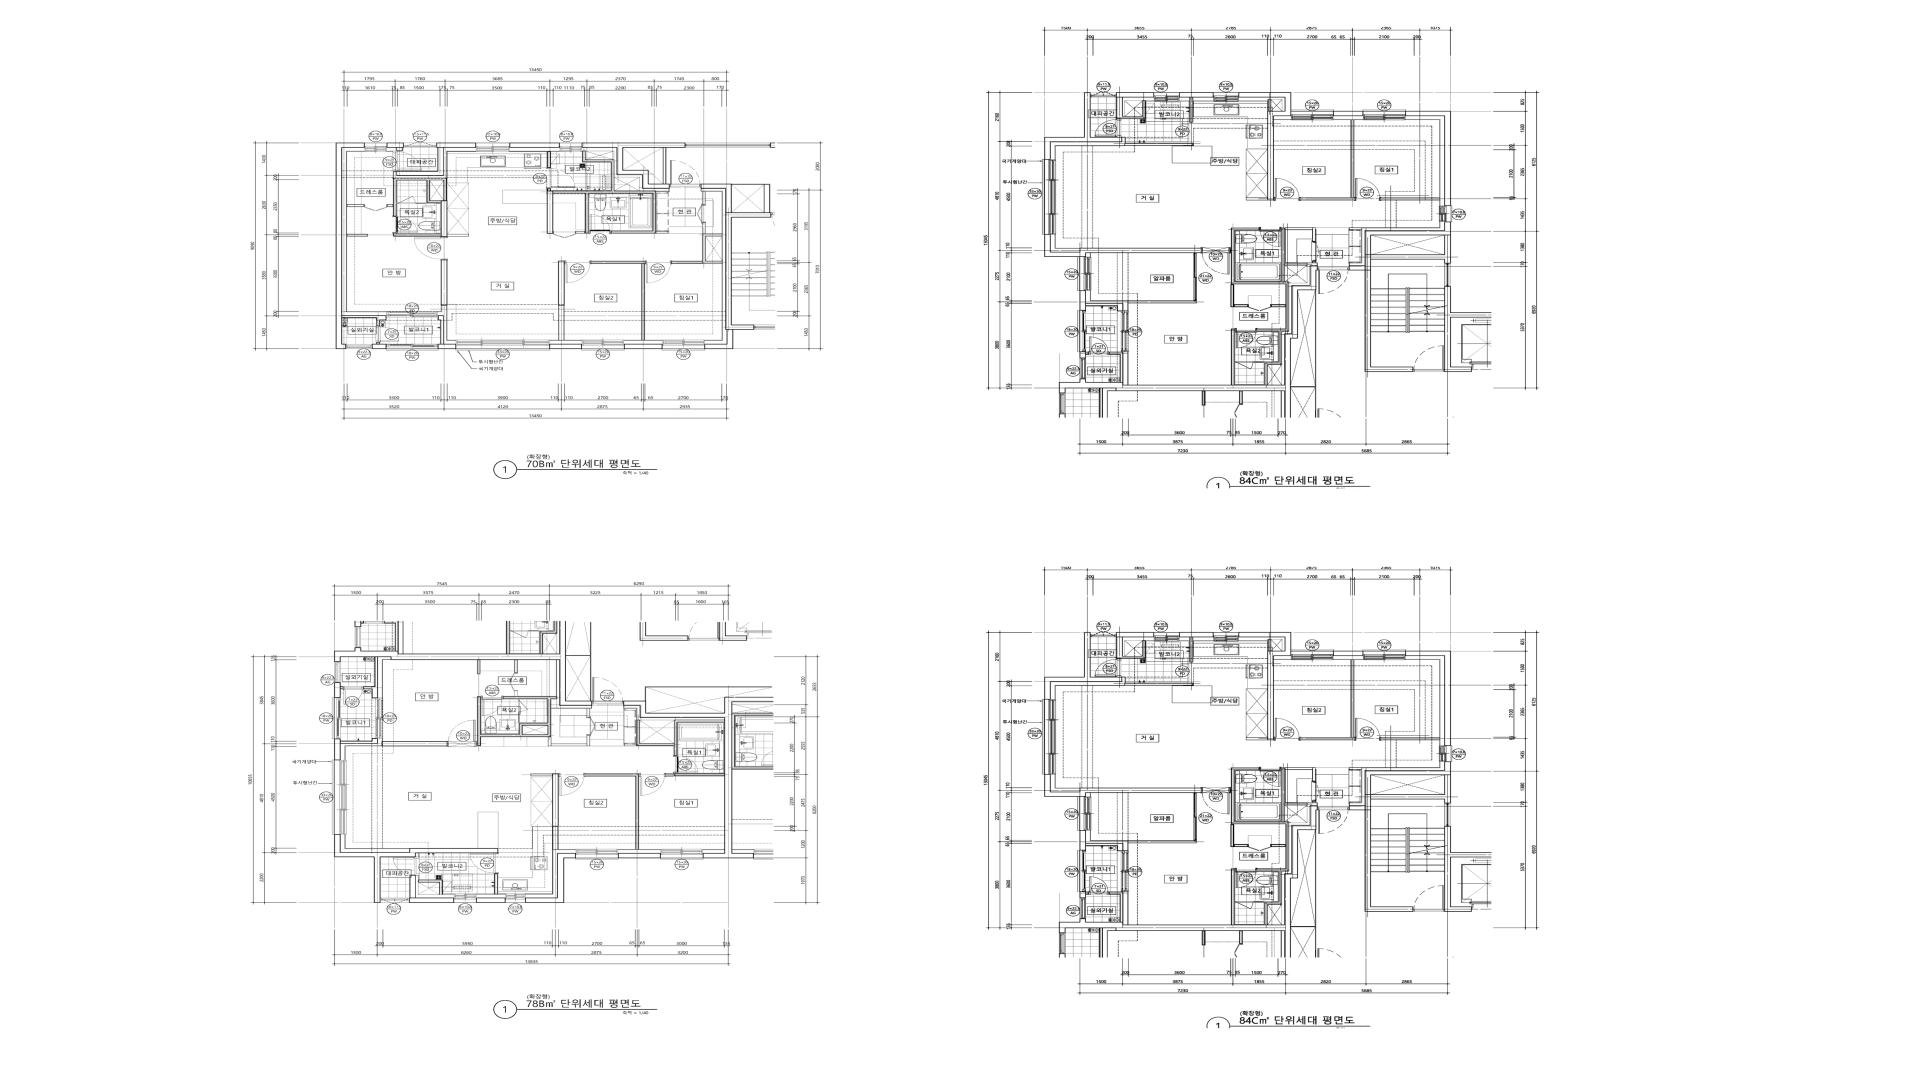door: (1317, 806, 1349, 833), (1317, 266, 1349, 294), (1201, 787, 1232, 815), (1414, 345, 1444, 372), (447, 720, 477, 746), (1414, 886, 1444, 913), (1201, 248, 1232, 274), (592, 678, 624, 703), (669, 161, 700, 186), (469, 853, 498, 874), (1354, 717, 1381, 740), (1274, 717, 1300, 740), (1354, 178, 1381, 200), (1274, 178, 1300, 200), (645, 261, 671, 284), (564, 261, 591, 284), (547, 167, 575, 189), (558, 774, 584, 795), (638, 774, 665, 795), (393, 152, 421, 171), (393, 857, 419, 876), (1095, 119, 1121, 137), (1095, 659, 1121, 676), (1259, 767, 1282, 787), (1234, 328, 1257, 348), (480, 696, 502, 716), (674, 756, 698, 774), (1234, 869, 1257, 887), (1259, 228, 1282, 247), (588, 215, 611, 233), (393, 216, 417, 233), (1088, 877, 1109, 895), (1088, 336, 1109, 355), (343, 687, 363, 704), (377, 326, 398, 342), (1193, 793, 1197, 840), (1193, 253, 1197, 301), (553, 231, 576, 239), (1312, 781, 1320, 803), (509, 673, 518, 691), (1312, 241, 1320, 262), (1091, 91, 1116, 98), (1249, 844, 1271, 851), (1249, 305, 1271, 311), (364, 204, 386, 211), (1234, 902, 1253, 910), (587, 717, 595, 736), (1234, 361, 1253, 369), (698, 204, 705, 223), (1091, 632, 1116, 637), (518, 699, 527, 712), (397, 196, 415, 203)
wall: (1059, 265, 1317, 418), (1059, 806, 1317, 957), (334, 621, 592, 705), (624, 698, 732, 858), (1349, 222, 1451, 372), (1349, 762, 1451, 913), (1232, 228, 1317, 385), (1232, 767, 1317, 924), (700, 183, 771, 349), (334, 835, 498, 903), (335, 142, 386, 349), (547, 150, 657, 233), (342, 148, 386, 315), (1238, 92, 1291, 200), (1238, 632, 1291, 740), (1044, 632, 1125, 699), (1044, 92, 1125, 160), (582, 142, 686, 189), (1300, 120, 1354, 200), (1300, 659, 1354, 740), (591, 261, 645, 340), (1406, 651, 1451, 746), (1406, 111, 1451, 206), (584, 774, 640, 849), (1444, 825, 1491, 913), (1444, 286, 1491, 372), (477, 696, 556, 746), (702, 189, 727, 344), (582, 148, 670, 191), (1044, 774, 1201, 796), (1044, 235, 1201, 257), (393, 178, 447, 236), (397, 142, 476, 175), (525, 853, 576, 903), (393, 148, 476, 178), (525, 849, 576, 898), (1291, 290, 1316, 388), (1291, 829, 1316, 927), (551, 659, 592, 717), (624, 705, 724, 720), (1371, 235, 1444, 255), (1371, 775, 1444, 795), (409, 876, 454, 903), (550, 306, 582, 344), (340, 835, 409, 852), (566, 655, 591, 700), (1116, 92, 1154, 119), (1116, 632, 1154, 658), (334, 738, 378, 761), (1080, 831, 1129, 851), (1080, 291, 1129, 311), (340, 738, 382, 761), (415, 876, 454, 898), (438, 306, 455, 344), (1122, 637, 1154, 657), (438, 315, 455, 349), (1122, 98, 1154, 116), (377, 657, 390, 698), (1109, 891, 1124, 922), (1109, 352, 1124, 382), (549, 736, 589, 746), (705, 236, 723, 261), (1232, 824, 1249, 848), (553, 774, 558, 849), (1232, 285, 1249, 307), (418, 880, 443, 894), (381, 741, 447, 746), (1179, 92, 1213, 102), (1179, 632, 1213, 641), (440, 260, 447, 306), (430, 181, 443, 203), (558, 261, 564, 306), (1333, 111, 1364, 120), (1129, 840, 1196, 844), (509, 142, 559, 148), (1333, 651, 1364, 659), (1269, 637, 1284, 651), (618, 853, 661, 858), (1269, 98, 1284, 111), (624, 344, 662, 349), (509, 148, 559, 152), (1125, 683, 1193, 686), (1129, 301, 1196, 303), (618, 849, 661, 853), (550, 344, 582, 349), (386, 142, 404, 152), (1381, 198, 1440, 200), (1381, 737, 1440, 740), (476, 898, 505, 903), (624, 340, 662, 344), (1232, 328, 1234, 385), (1232, 869, 1234, 924), (334, 683, 343, 698), (476, 894, 505, 898), (372, 342, 386, 349), (1189, 98, 1193, 123), (1189, 637, 1193, 662), (663, 148, 666, 183), (1125, 144, 1193, 145), (671, 261, 703, 264), (703, 849, 724, 853), (547, 152, 551, 167), (530, 774, 553, 777), (1246, 198, 1267, 200), (1246, 737, 1267, 740), (514, 659, 518, 673), (495, 874, 497, 894), (1080, 891, 1087, 898), (1080, 352, 1087, 359), (732, 183, 764, 185), (386, 148, 397, 152), (477, 659, 480, 674), (624, 744, 637, 746), (657, 231, 669, 233), (1349, 767, 1361, 770), (447, 235, 468, 236), (576, 231, 585, 233), (386, 204, 393, 207), (1349, 228, 1361, 229), (415, 853, 419, 857), (1253, 902, 1265, 903), (1253, 361, 1265, 363), (518, 712, 520, 723), (514, 691, 517, 696), (1087, 891, 1088, 894), (1087, 352, 1088, 355), (415, 203, 426, 203)
window: (1042, 699, 1056, 774), (1042, 160, 1056, 235), (332, 761, 347, 835), (455, 340, 550, 351), (1291, 109, 1335, 120), (1291, 649, 1335, 659), (1077, 796, 1091, 831), (1077, 257, 1091, 291), (1364, 109, 1406, 120), (582, 340, 624, 351), (1364, 649, 1406, 659), (576, 849, 618, 860), (661, 849, 703, 860), (662, 340, 704, 351), (1077, 310, 1087, 352), (1077, 851, 1087, 891), (386, 311, 438, 318), (386, 344, 438, 351), (1121, 851, 1129, 891), (332, 698, 340, 738), (1121, 311, 1129, 352), (476, 142, 509, 152), (376, 698, 382, 738), (1213, 92, 1238, 102), (1154, 632, 1179, 641), (1213, 632, 1238, 641), (1154, 92, 1179, 102), (404, 141, 436, 148), (364, 142, 386, 152), (559, 142, 582, 152), (454, 894, 476, 903), (380, 898, 409, 905), (1440, 206, 1452, 222), (1440, 746, 1452, 762), (505, 894, 525, 903), (1444, 262, 1451, 286), (1444, 803, 1451, 827), (345, 344, 372, 349), (334, 662, 340, 683), (1080, 898, 1087, 919), (1080, 359, 1087, 378)
